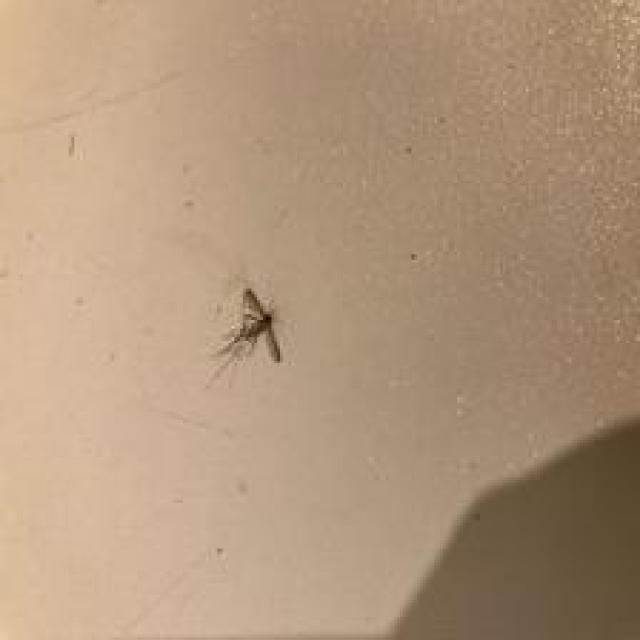Culex: (206, 287, 283, 387)
